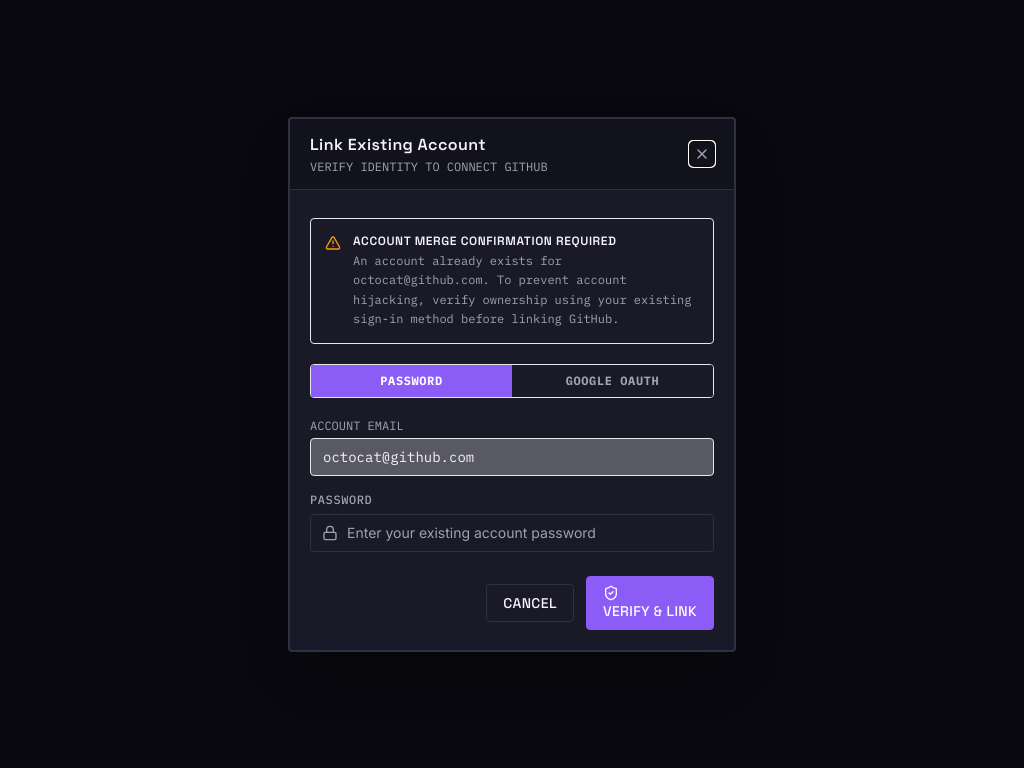
AccountLinkingModal Component › handles Google link failure and displays formatted error
Click the button "Google OAuth": (612, 380) [512,364,713,396]
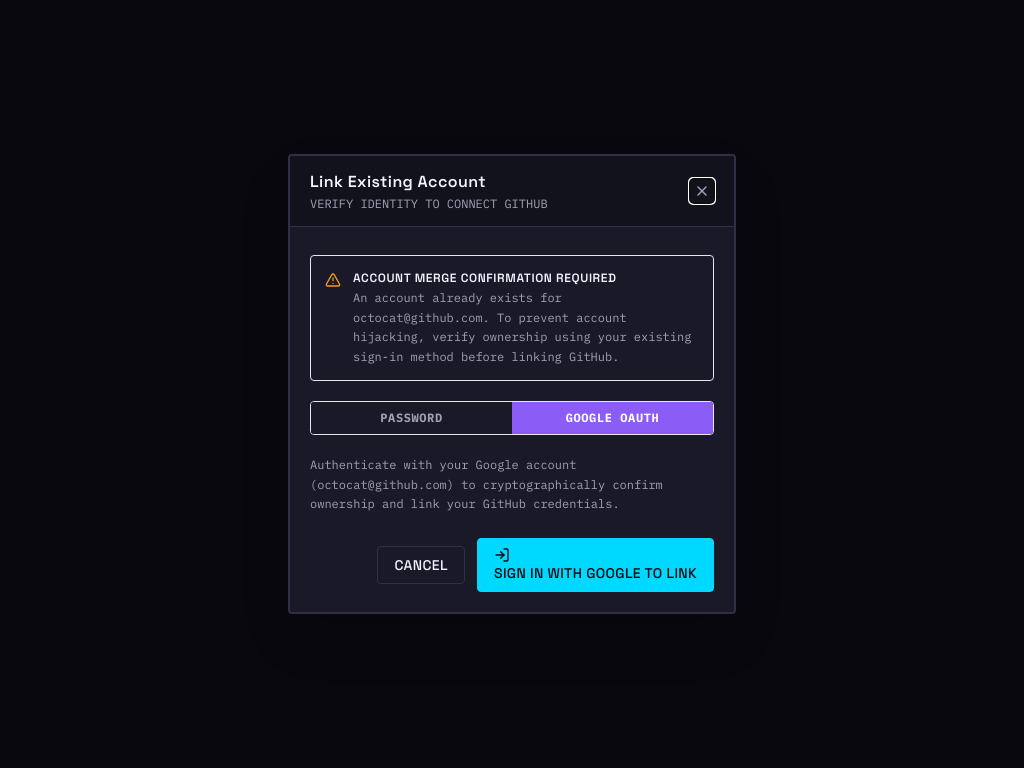
Click the button "Sign In with Google to Link": (596, 565) [477,538,714,592]
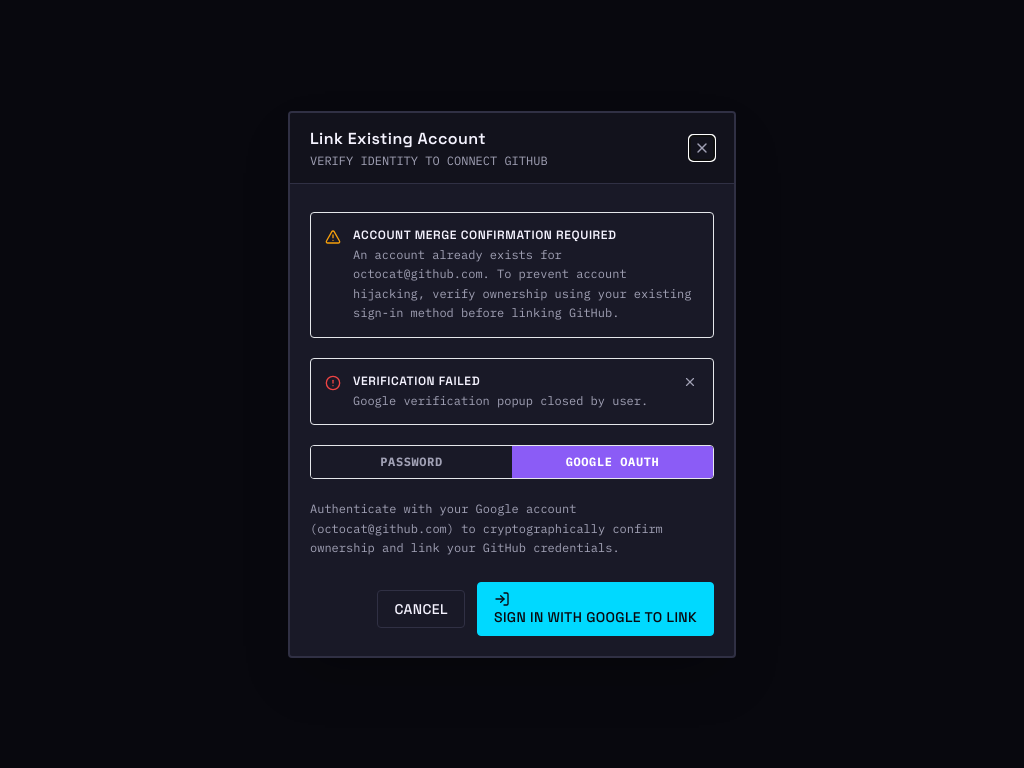
Check: the text "Google verification popup closed by user." is shown, box [353,390,669,410]
